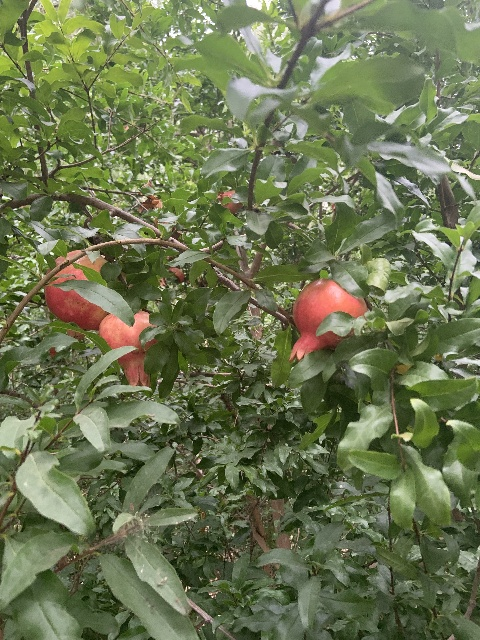ripe: (289, 279, 366, 361), (44, 250, 109, 340), (98, 310, 157, 385), (216, 190, 242, 213)
